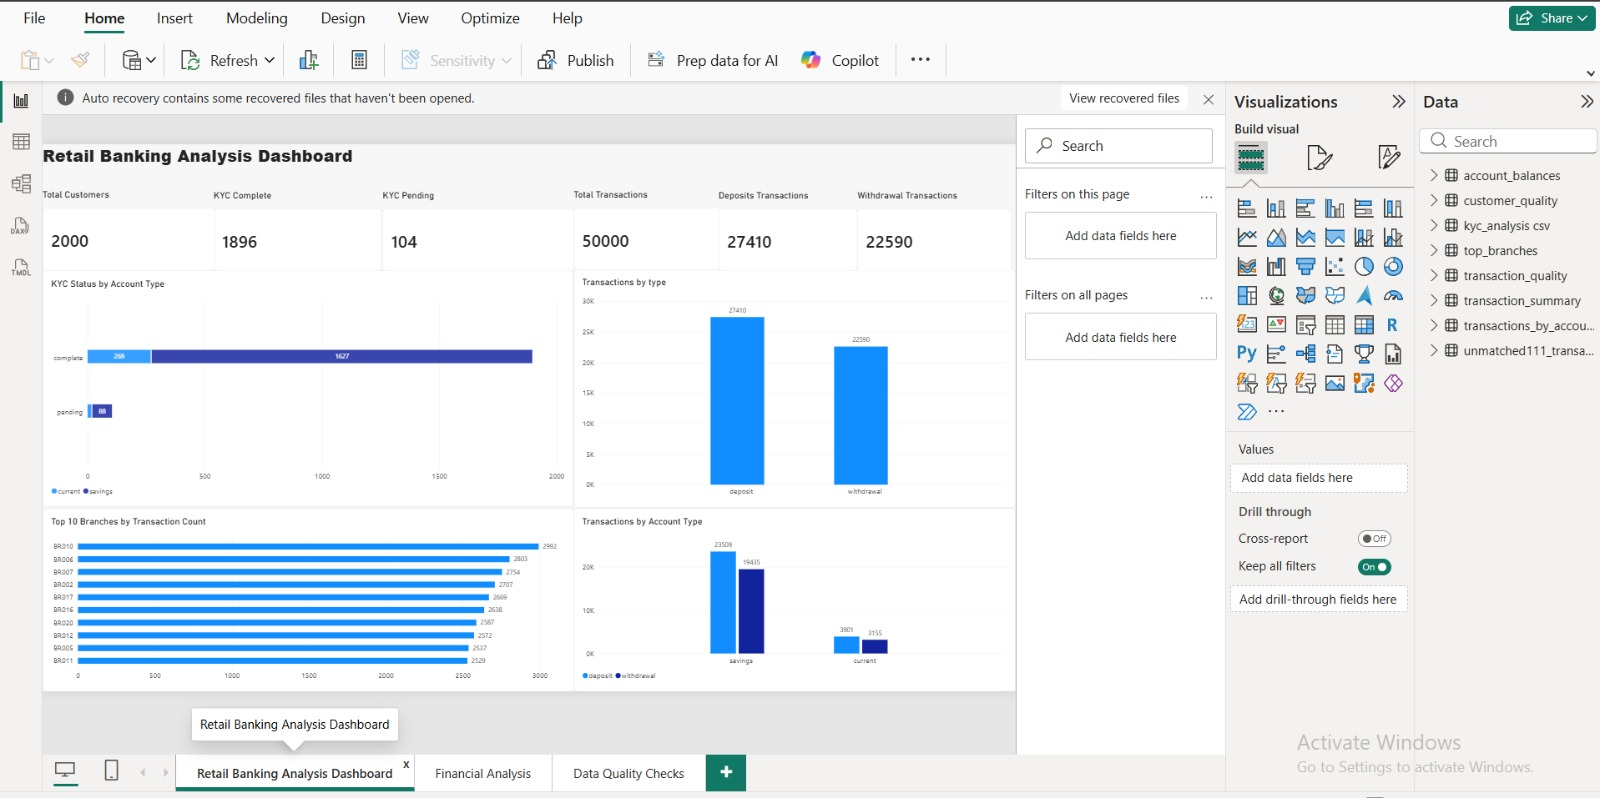

Layout of this report page (visuals, bound fields, positions):
{"tool":"powerbi","page":{"name":"Retail Banking Analysis Dashboard","canvas":[1920,1080],"ordinal":0},"visuals":[{"type":"barChart","title":"KYC Status by Account Type","fields":{"Category":["kyc_analysis csv.kyc_status"],"Series":["kyc_analysis csv.account_type"],"Y":["Sum(kyc_analysis csv.customer_count)"]},"box":[0,250,1047.5,467.5],"z":0},{"type":"cardVisual","title":"KYC Pending","fields":{"Data":["Sum(kyc_analysis csv.customer_count)"]},"box":[670,90,378,160],"z":1000},{"type":"cardVisual","title":"KYC Complete","fields":{"Data":["Sum(kyc_analysis csv.customer_count)"]},"box":[338,90,332,160],"z":2000},{"type":"cardVisual","title":"Total Customers","fields":{"Data":["Sum(kyc_analysis csv.customer_count)"]},"box":[0,88,340,162],"z":3000},{"type":"clusteredColumnChart","title":"Transactions by type","fields":{"Category":["transaction_summary.transaction_type"],"Y":["Sum(transaction_summary.transactions_count)"]},"box":[1048,248,872.5,470],"z":4000},{"type":"cardVisual","title":"Total Transactions","fields":{"Data":["Sum(transaction_summary.transactions_count)"]},"box":[1048,88,293.7,160.2],"z":5000},{"type":"cardVisual","title":"Deposits Transactions","fields":{"Data":["Sum(transaction_summary.transactions_count)"]},"box":[1334,90,274.1,160.2],"z":6000},{"type":"cardVisual","title":"Withdrawal Transactions","fields":{"Data":["Sum(transaction_summary.transactions_count)"]},"box":[1608,90,304.3,162],"z":7000},{"type":"clusteredBarChart","title":"Top 10 Branches by Transaction Count","fields":{"Category":["top_branches.branch_id"],"Y":["Sum(top_branches.transaction_count)"]},"box":[0,718,1048,362],"z":8000},{"type":"clusteredColumnChart","title":"Transactions by Account Type","fields":{"Category":["transactions_by_account.account_type"],"Series":["transactions_by_account.transaction_type"],"Y":["Sum(transactions_by_account.transaction_count)"]},"box":[1048,718,872,362],"z":9000},{"type":"textbox","title":"Retail Banking Analysis Dashboard","box":[0,0,1920,58],"z":14000}]}

Visuals, with their boxes on the page's 1920x1080 design canvas (x1, y1, x2, y2). These are canvas units, not pixel positions in the 1600x798 screenshot, which may show the page scaled, cropped or inside an application window:
"KYC Status by Account Type" barChart: Rect(0, 250, 1048, 718)
"KYC Pending" cardVisual: Rect(670, 90, 1048, 250)
"KYC Complete" cardVisual: Rect(338, 90, 670, 250)
"Total Customers" cardVisual: Rect(0, 88, 340, 250)
"Transactions by type" clusteredColumnChart: Rect(1048, 248, 1920, 718)
"Total Transactions" cardVisual: Rect(1048, 88, 1342, 248)
"Deposits Transactions" cardVisual: Rect(1334, 90, 1608, 250)
"Withdrawal Transactions" cardVisual: Rect(1608, 90, 1912, 252)
"Top 10 Branches by Transaction Count" clusteredBarChart: Rect(0, 718, 1048, 1080)
"Transactions by Account Type" clusteredColumnChart: Rect(1048, 718, 1920, 1080)
"Retail Banking Analysis Dashboard" textbox: Rect(0, 0, 1920, 58)
